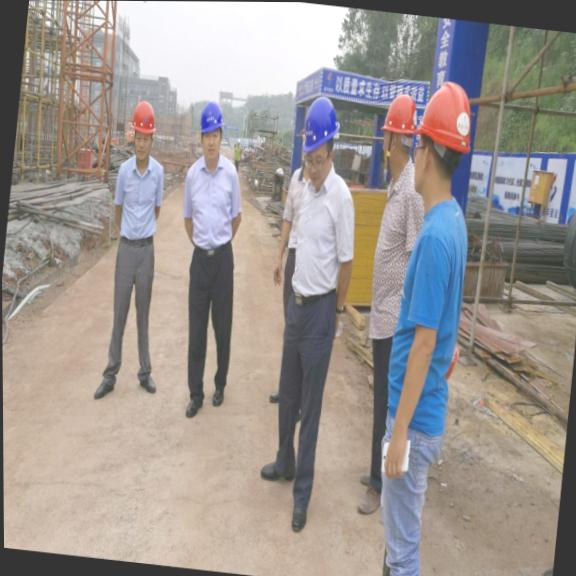no_safety_vest: (377, 186, 476, 437), (362, 158, 429, 344), (286, 166, 364, 307), (176, 151, 248, 250), (109, 149, 168, 245)
